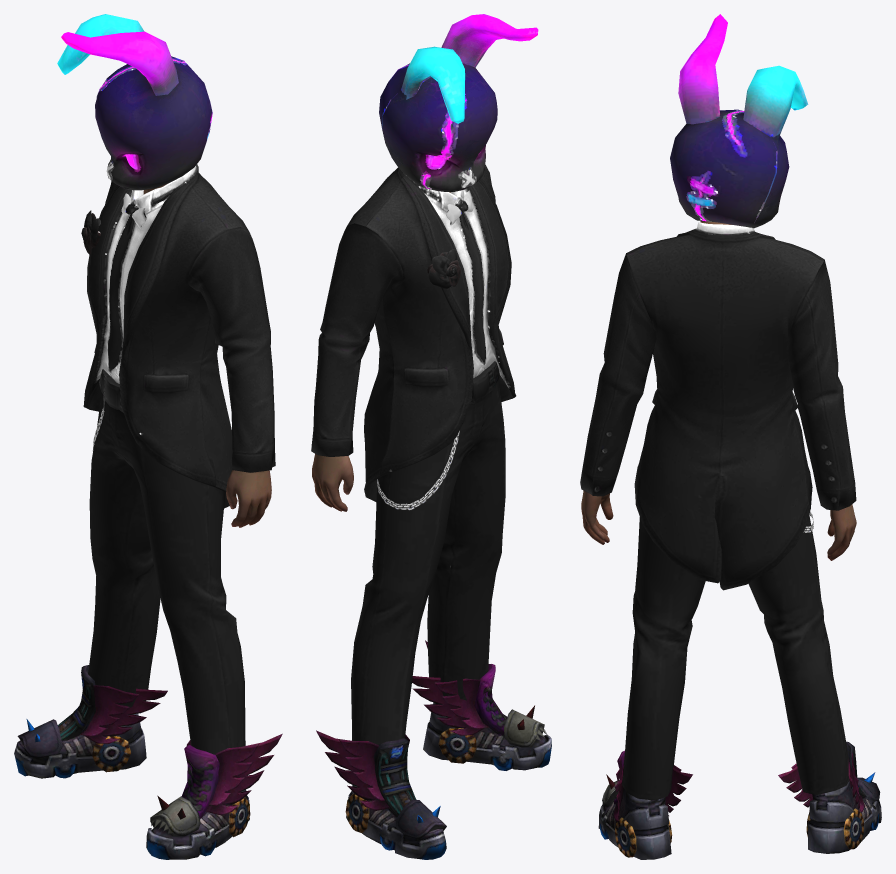
File: Triple R creacter.fbx
3 views of the same model, side by side, from view 1: azimuth 30°, elevation 25°; view 2: azimuth 150°, elevation 25°; view 3: azimuth 270°, elevation 25° (orthographic). The views are drawn at different scales.
Parts seen in each view (by area): view 1: Triple R shirt, Triple R pant, Triple R shoe, Triple R head, Triple R body; view 2: Triple R shirt, Triple R pant, Triple R shoe, Triple R head, Triple R body; view 3: Triple R shirt, Triple R pant, Triple R head, Triple R shoe, Triple R body.
Part boxes in pixels (left/top/right/bottom): Triple R shirt: left=81, top=164, right=275, bottom=508; Triple R pant: left=88, top=369, right=245, bottom=754; Triple R shoe: left=14, top=665, right=282, bottom=859; Triple R head: left=57, top=14, right=212, bottom=190; Triple R body: left=143, top=183, right=271, bottom=527; Triple R shirt: left=311, top=165, right=516, bottom=501; Triple R pant: left=351, top=361, right=505, bottom=744; Triple R shoe: left=316, top=640, right=551, bottom=859; Triple R head: left=379, top=14, right=538, bottom=191; Triple R body: left=312, top=192, right=450, bottom=511; Triple R shirt: left=580, top=222, right=856, bottom=590; Triple R pant: left=622, top=511, right=849, bottom=800; Triple R head: left=670, top=14, right=808, bottom=228; Triple R shoe: left=598, top=741, right=881, bottom=859; Triple R body: left=581, top=221, right=856, bottom=560.
Size of the model in its own units: 28.41 by 127 by 44.28.
5 materials, 5 textured.
